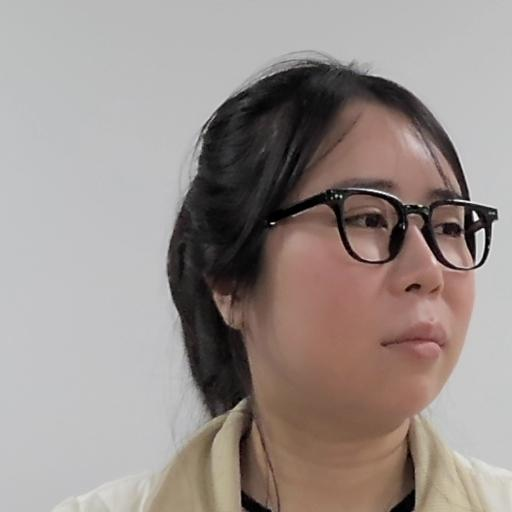no_glasses: (156, 50, 502, 433)
